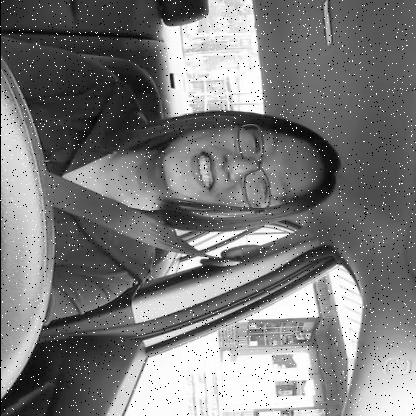seatbelt: (31, 104, 348, 288)
